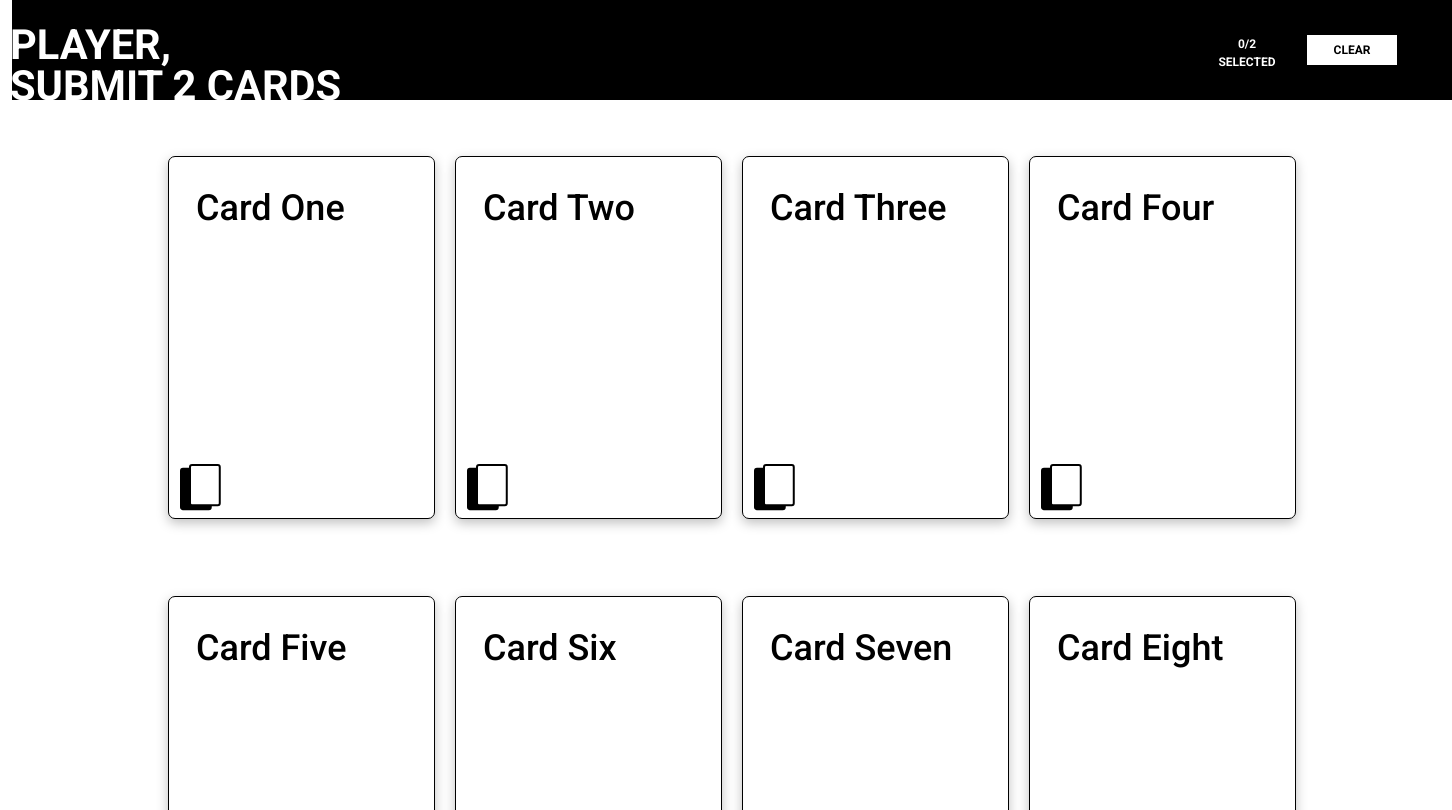
Test: PlayerHandScreen › props › passes the correct value for numberSelected
The width and height of the screenshot is (1452, 810).
Check: the button with test id "submit" reads "0/2 SELECTED", box [1202,35,1292,65]
Click the button "Card One". click: [302, 340]
box: [168,140,435,540]
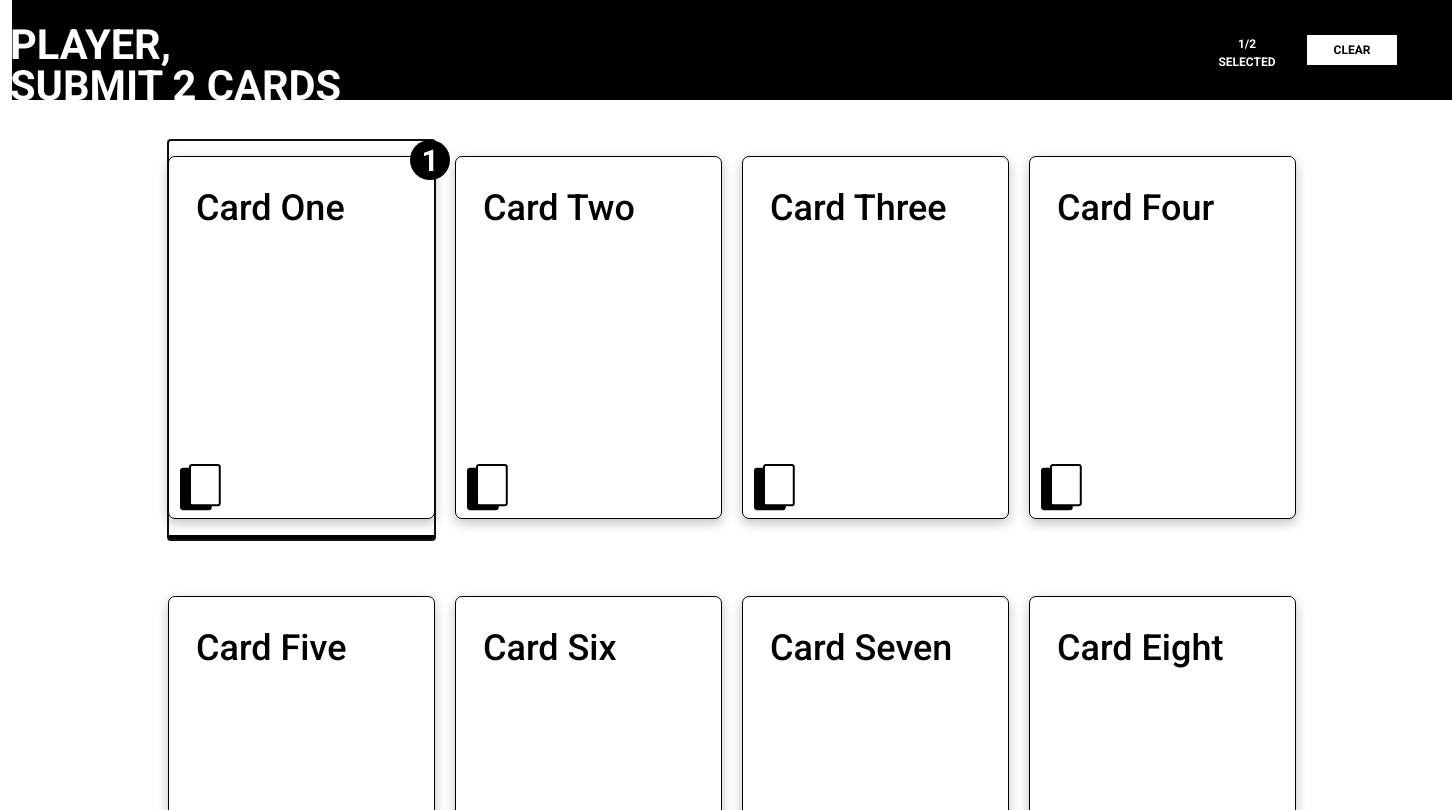
Check: the button with test id "submit" reads "1/2 SELECTED", box [1202,35,1292,65]
